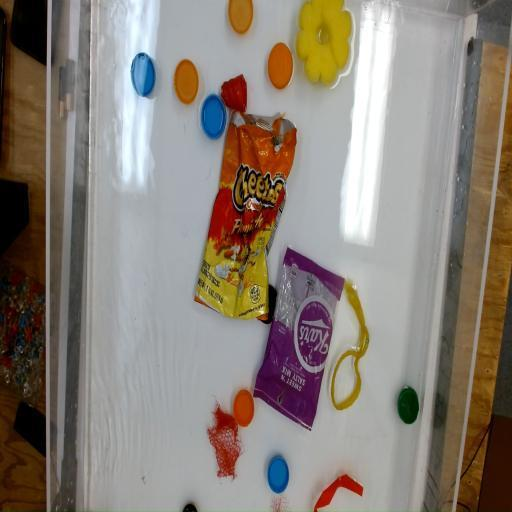Bottle Cap: (200, 92, 227, 142), (268, 44, 293, 90), (130, 52, 156, 96), (175, 59, 198, 103), (396, 386, 420, 427), (266, 454, 289, 495), (228, 0, 254, 32), (234, 390, 255, 426), (179, 500, 201, 512)
Cone Cap: (221, 76, 249, 114)
Netting: (208, 405, 243, 481), (270, 492, 291, 512)
Plastic Bag: (192, 110, 300, 316), (253, 244, 346, 434)
Plastic Strand: (330, 282, 370, 412), (310, 470, 367, 512)
Sponge: (295, 0, 358, 88)
